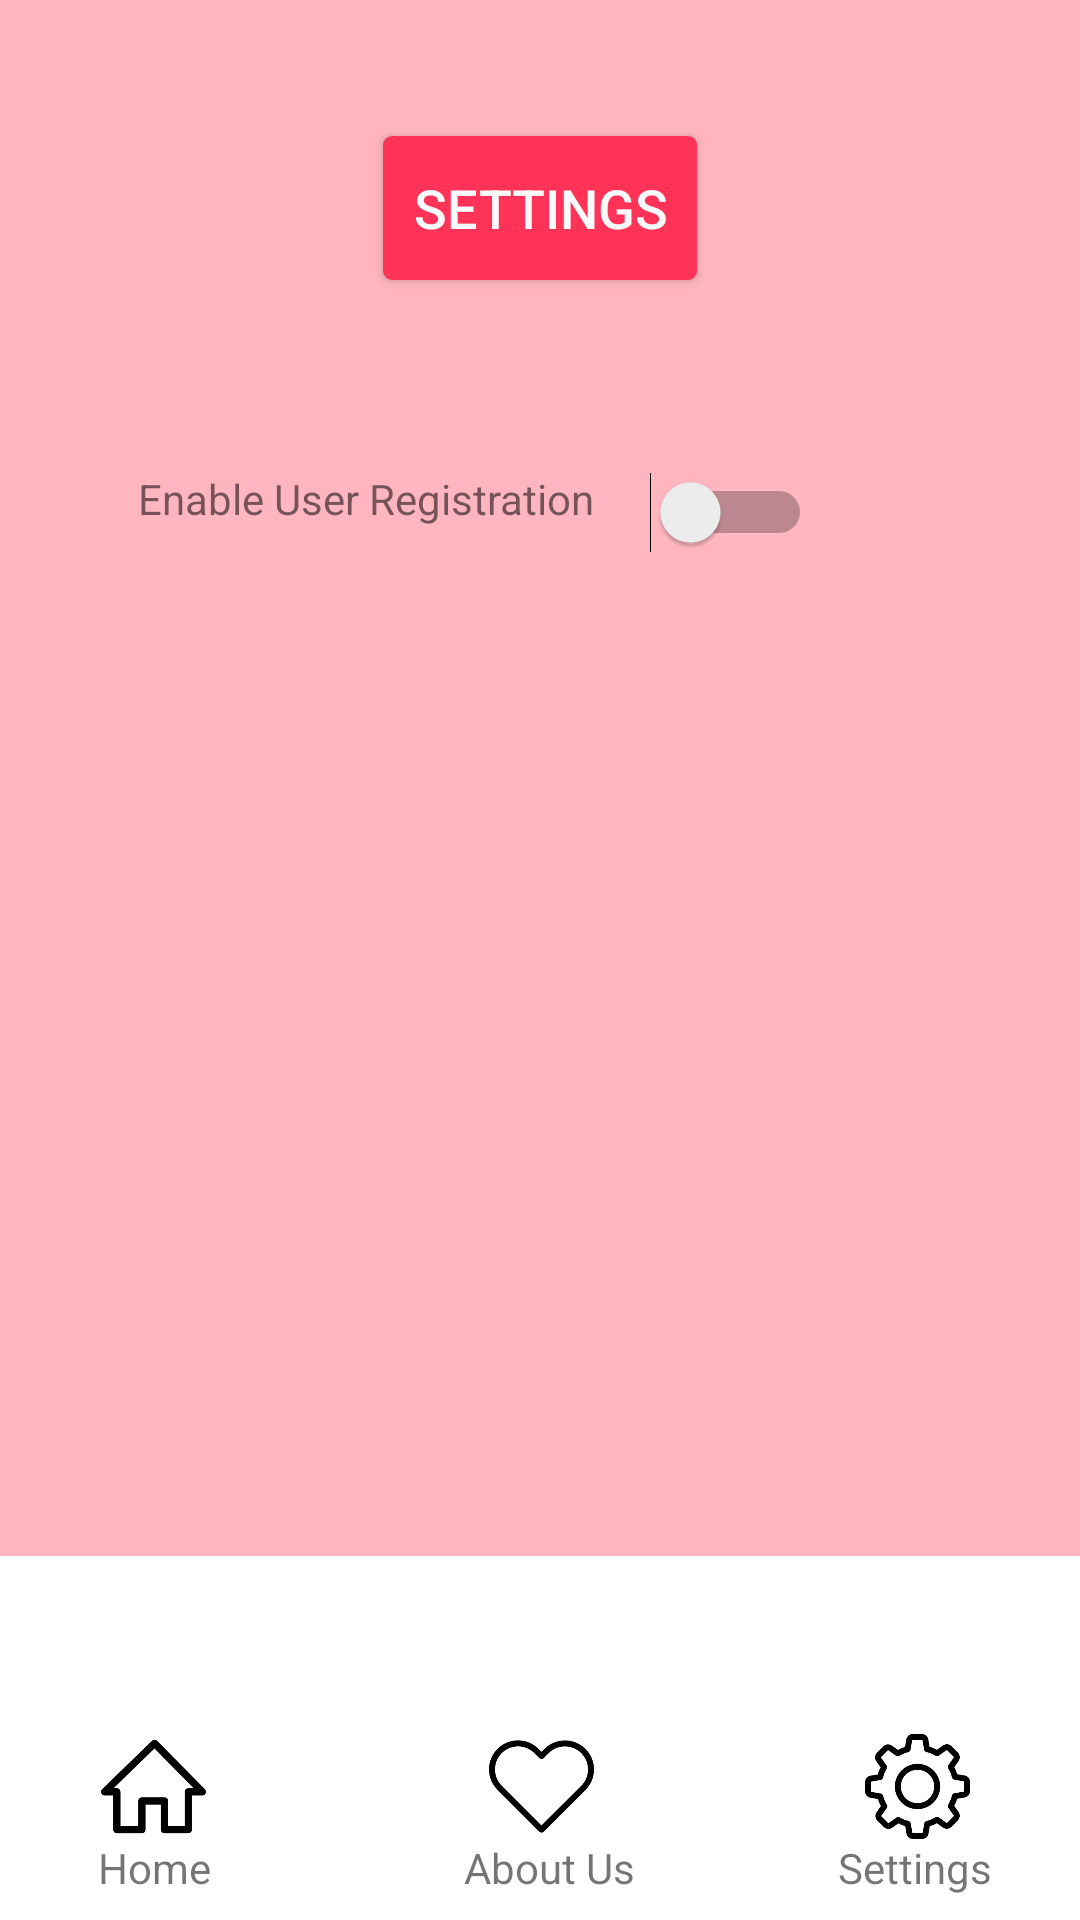

Icon bounding boxes for this 1080 × 1920 phone screenshot, format (x1, y1, x2, y2):
heart: (489, 1740, 594, 1833)
